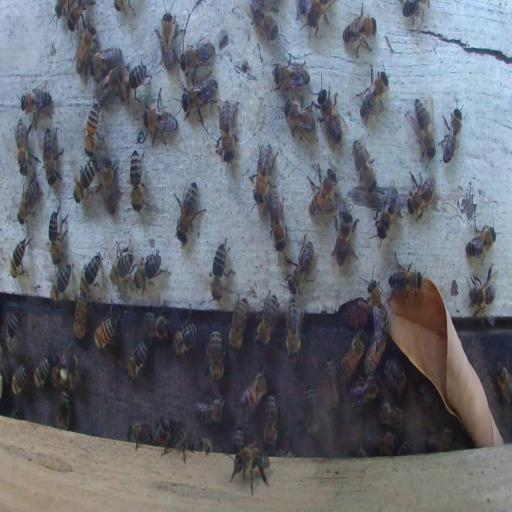nonpollenbee: (229, 444, 271, 494), (356, 61, 390, 121), (143, 88, 178, 146), (173, 180, 206, 240), (286, 236, 317, 296), (315, 85, 345, 146), (342, 6, 377, 58), (407, 98, 436, 159), (250, 142, 277, 206), (388, 252, 422, 302), (439, 96, 463, 166), (307, 165, 337, 216), (375, 185, 400, 246), (209, 238, 233, 301), (407, 171, 437, 220), (20, 79, 53, 123), (156, 3, 177, 72), (333, 211, 358, 268), (468, 268, 498, 315), (271, 56, 310, 92), (182, 77, 218, 115), (239, 369, 269, 414), (352, 138, 377, 192), (284, 97, 316, 139), (41, 126, 63, 187), (255, 293, 278, 349), (339, 331, 366, 378), (367, 280, 391, 332), (227, 296, 248, 354), (98, 156, 118, 216), (180, 39, 214, 74), (270, 191, 288, 257), (219, 102, 238, 164), (350, 374, 380, 413), (285, 298, 303, 362), (110, 241, 134, 289), (136, 248, 166, 286), (47, 208, 67, 264), (364, 327, 387, 375), (128, 151, 146, 211), (250, 4, 278, 42), (75, 22, 95, 74), (304, 1, 330, 41), (73, 159, 97, 202), (126, 338, 149, 382), (18, 179, 40, 225), (301, 384, 319, 440), (90, 47, 122, 78), (466, 225, 496, 258), (79, 254, 102, 297), (164, 425, 192, 459), (384, 358, 408, 397), (172, 320, 198, 356), (50, 264, 72, 306), (5, 310, 25, 356), (84, 105, 102, 156), (196, 395, 226, 425), (323, 357, 339, 413), (126, 62, 150, 98), (208, 329, 224, 382), (263, 392, 278, 448), (15, 116, 29, 176), (96, 70, 122, 102), (94, 316, 118, 350), (144, 311, 171, 341), (377, 400, 404, 430), (10, 357, 29, 398), (10, 238, 28, 280), (73, 294, 89, 341), (425, 427, 455, 452), (495, 362, 511, 404), (56, 389, 72, 431), (344, 305, 372, 328), (129, 422, 153, 448), (401, 2, 428, 25), (34, 355, 50, 388), (156, 414, 171, 446), (66, 4, 84, 30), (231, 426, 246, 454), (378, 433, 396, 455), (192, 438, 214, 452), (50, 365, 62, 389), (350, 444, 366, 457)
pollenbee: (60, 341, 81, 397)
